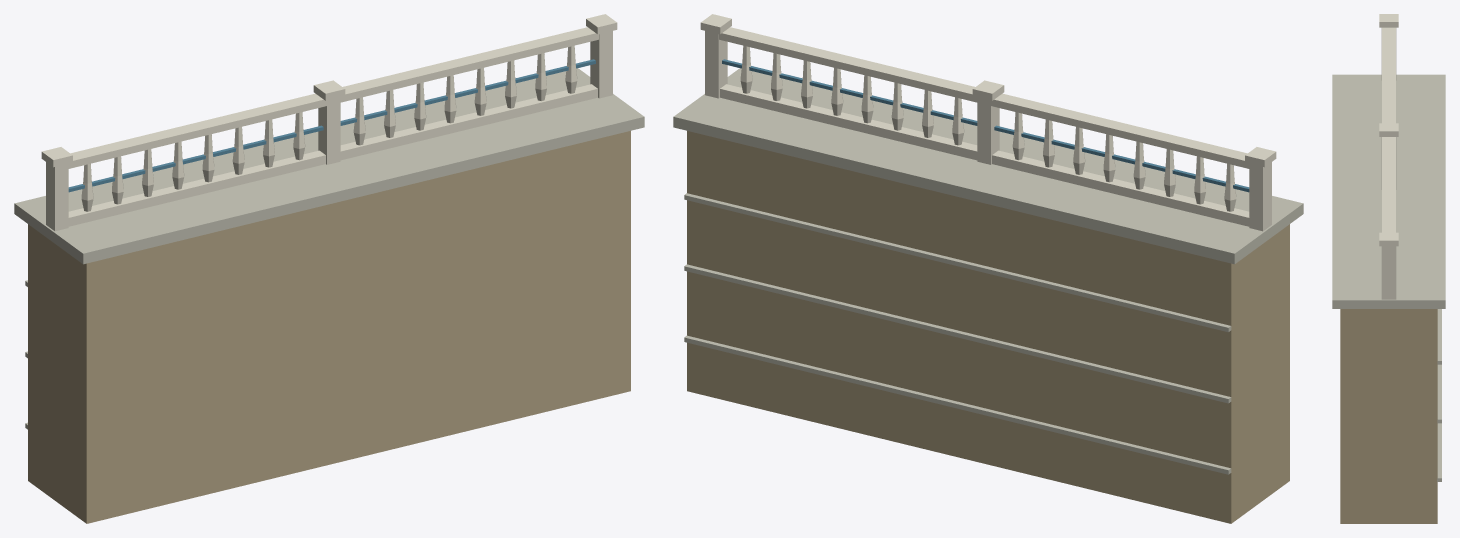
The model's file is KOL_HBR_RF_06.fbx.
3 views of the same model, side by side, from view 1: azimuth 30°, elevation 25°; view 2: azimuth 150°, elevation 25°; view 3: azimuth 270°, elevation 25° (orthographic). The views are drawn at different scales.
Visible parts, largest first — view 1: KOL_HBR_RF_06__ReturnWall__Stone, KOL_HBR_RF_06__ReturnWall__Concrete, KOL_HBR_RF_06__Balustrade16__White, KOL_HBR_RF_06__Balustrade16__White.001, KOL_HBR_RF_06__RailTerminal__White, KOL_HBR_RF_06__Balustrade16__Blue.001, KOL_HBR_RF_06__Balustrade16__Blue; view 2: KOL_HBR_RF_06__ReturnWall__Stone, KOL_HBR_RF_06__ReturnWall__Concrete, KOL_HBR_RF_06__Balustrade16__White, KOL_HBR_RF_06__Balustrade16__White.001, KOL_HBR_RF_06__RailTerminal__White, KOL_HBR_RF_06__Balustrade16__Blue.001, KOL_HBR_RF_06__Balustrade16__Blue; view 3: KOL_HBR_RF_06__ReturnWall__Concrete, KOL_HBR_RF_06__ReturnWall__Stone, KOL_HBR_RF_06__Balustrade16__White, KOL_HBR_RF_06__Balustrade16__White.001, KOL_HBR_RF_06__RailTerminal__White.
Part boxes in pixels (x1=…): KOL_HBR_RF_06__ReturnWall__Stone: x1=28, y1=131, x2=630, y2=523; KOL_HBR_RF_06__ReturnWall__Concrete: x1=14, y1=68, x2=644, y2=429; KOL_HBR_RF_06__Balustrade16__White: x1=41, y1=93, x2=326, y2=231; KOL_HBR_RF_06__Balustrade16__White.001: x1=313, y1=27, x2=598, y2=164; KOL_HBR_RF_06__RailTerminal__White: x1=586, y1=14, x2=617, y2=98; KOL_HBR_RF_06__Balustrade16__Blue.001: x1=340, y1=59, x2=595, y2=125; KOL_HBR_RF_06__Balustrade16__Blue: x1=68, y1=125, x2=323, y2=192; KOL_HBR_RF_06__ReturnWall__Stone: x1=687, y1=131, x2=1289, y2=523; KOL_HBR_RF_06__ReturnWall__Concrete: x1=673, y1=68, x2=1303, y2=474; KOL_HBR_RF_06__Balustrade16__White: x1=991, y1=93, x2=1276, y2=231; KOL_HBR_RF_06__Balustrade16__White.001: x1=719, y1=27, x2=1004, y2=164; KOL_HBR_RF_06__RailTerminal__White: x1=700, y1=14, x2=731, y2=98; KOL_HBR_RF_06__Balustrade16__Blue.001: x1=722, y1=59, x2=977, y2=125; KOL_HBR_RF_06__Balustrade16__Blue: x1=994, y1=125, x2=1249, y2=192; KOL_HBR_RF_06__ReturnWall__Concrete: x1=1332, y1=74, x2=1445, y2=481; KOL_HBR_RF_06__ReturnWall__Stone: x1=1340, y1=309, x2=1437, y2=523; KOL_HBR_RF_06__Balustrade16__White: x1=1379, y1=14, x2=1398, y2=123; KOL_HBR_RF_06__Balustrade16__White.001: x1=1379, y1=123, x2=1398, y2=232; KOL_HBR_RF_06__RailTerminal__White: x1=1379, y1=232, x2=1398, y2=299.
Bounding box in the file's own units: 33.15 × 19.6 × 7.
